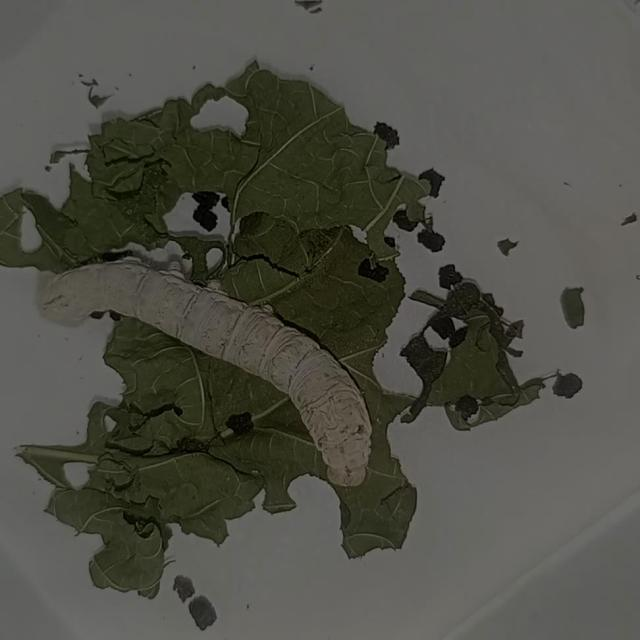Healthy: (29, 240, 384, 509)
